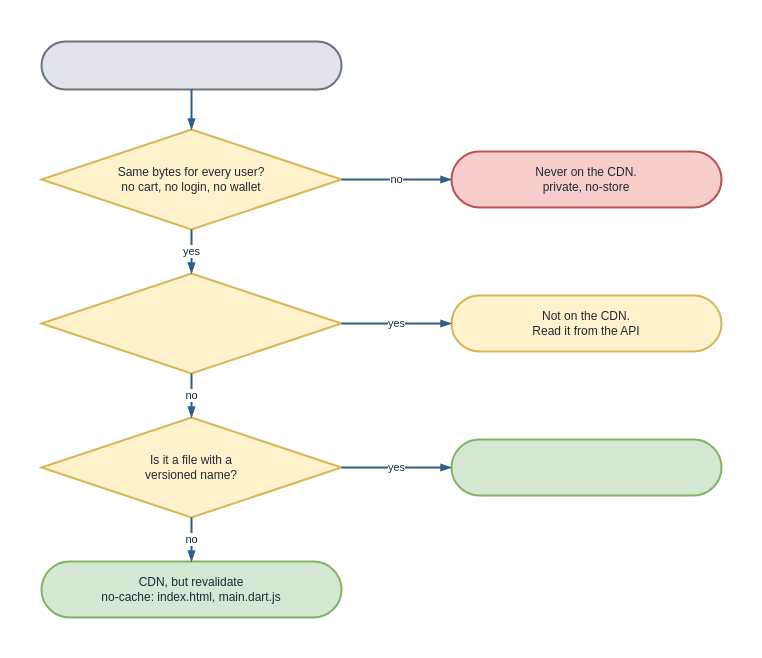
This 762x658 diagram has some shape labels left out. Each missing label, with the centre of its shape:
CDN, cache for a year max-age=31536000, immutable: pixel 586 467
Changes every few seconds? stock left, live price: pixel 191 323
One response your app serves: pixel 191 65
